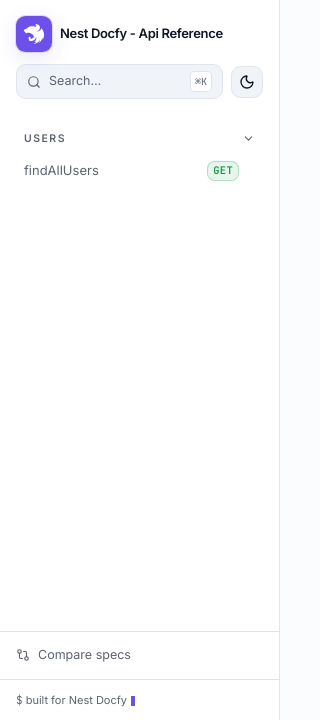
Scenario: <Sidebar /> › collapses and expands a tag section on click
expect the text "findAllUsers" is shown: met, box [24, 161, 99, 180]
Click the button "users".
click(140, 133)  # box [12, 111, 267, 155]
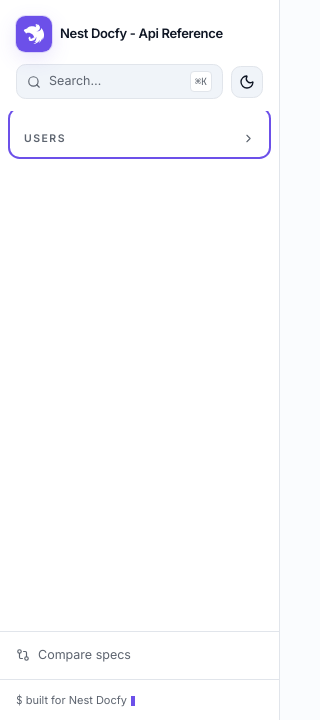
expect the link "findAllUsers" is gone: met
Click the button "users".
click(140, 133)  # box [12, 111, 267, 155]
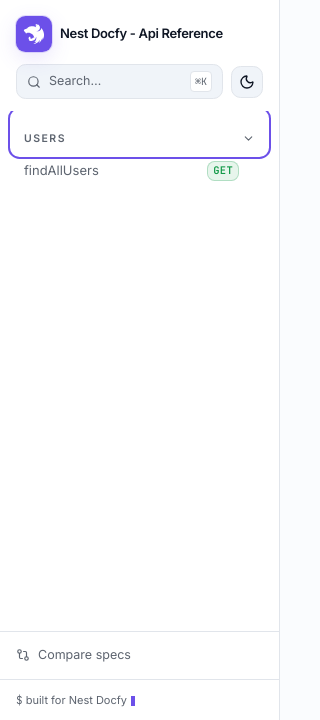
expect the text "findAllUsers" is shown: met, box [24, 161, 99, 180]
